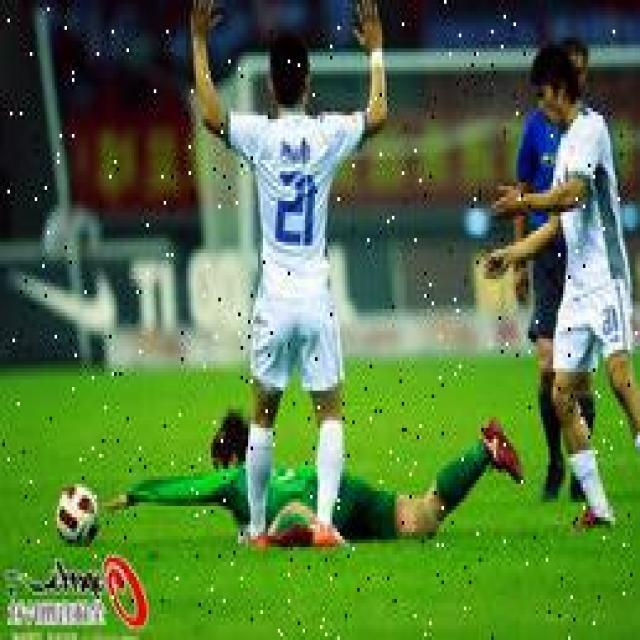fall: (154, 406, 518, 536)
